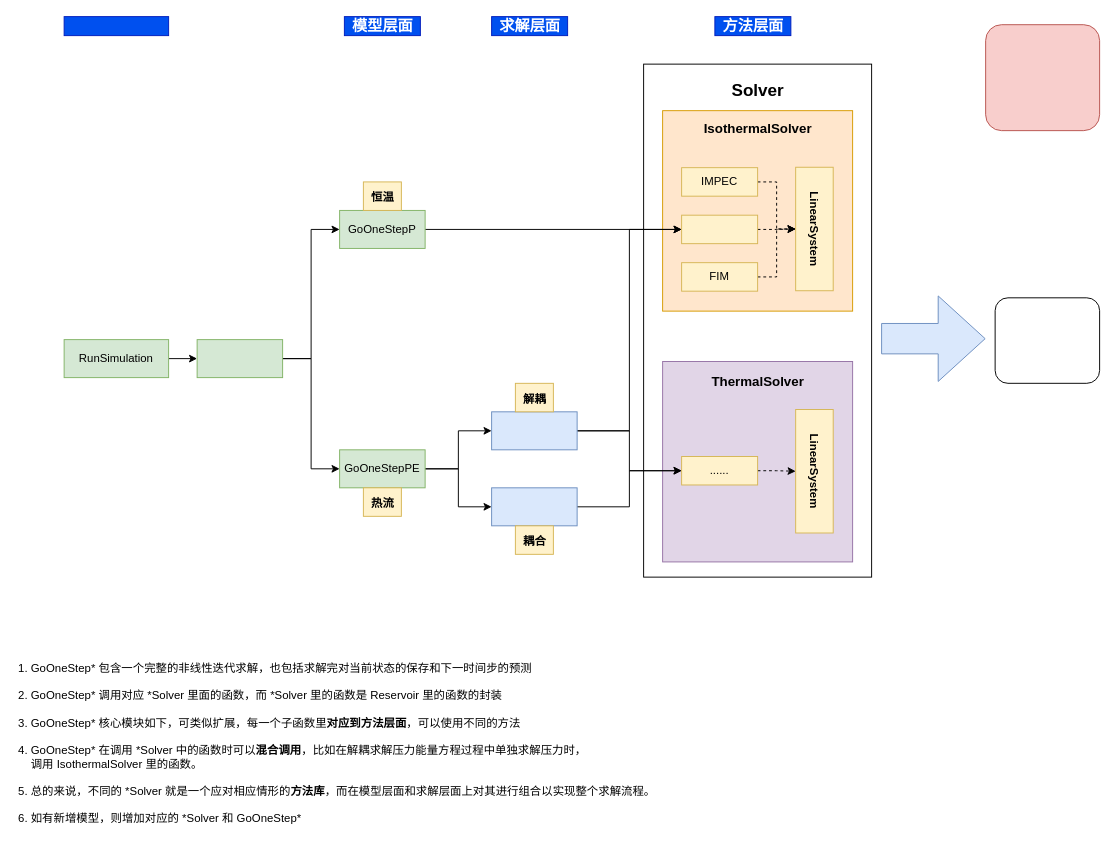
The diagram is 1116 pixels wide and 842 high, and some of its shapes have lost their labels. The shapes that lost their labels are listed below. From the top down, each one's box as (x1, y1, x2, y2) in pixels, then its label:
(63, 16, 169, 36): 油藏数值模拟
(985, 24, 1100, 131): 易 于扩展， 为求解方法的实时切换提供可能
(681, 214, 758, 244): AIM
(196, 339, 283, 378): GoOneStep
(994, 297, 1100, 383): 方法是核心函数的封装 (Reservoir)
(491, 411, 577, 450): GoOneStepPED
(491, 487, 577, 526): GoOneStepPEC
